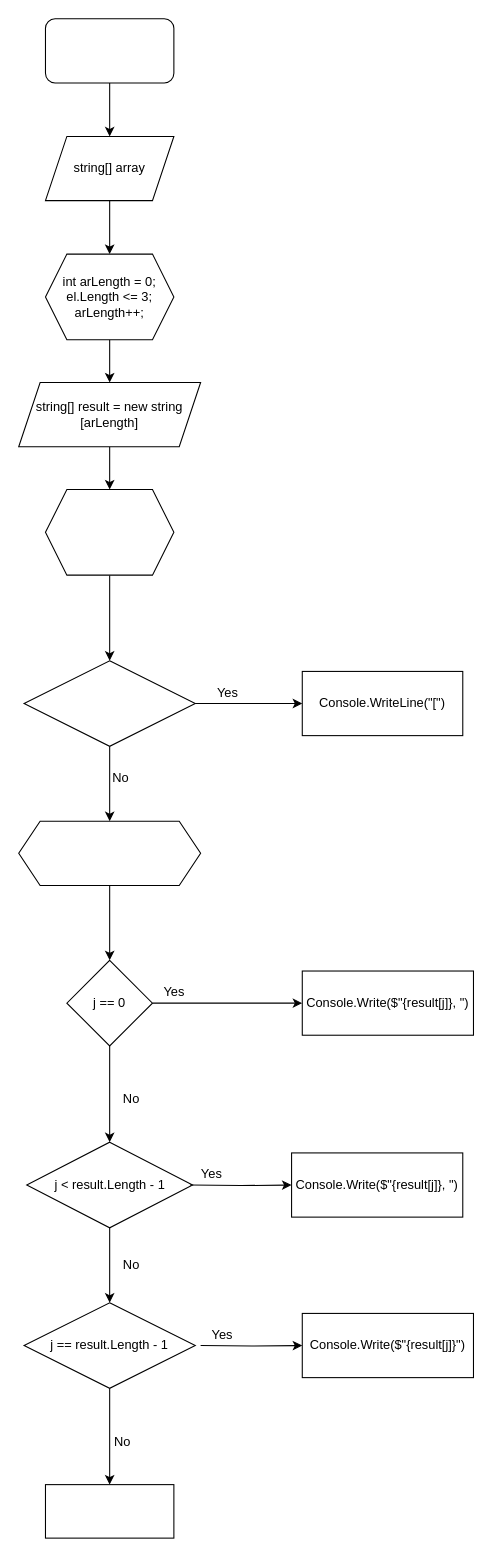
Some shapes in this 492 by 1557 pixel diagram are drawn without their labels. Each missing label, with the box of its shape:
Console.Write("]"): (44, 1484, 174, 1538)
int i = 0; el.Length <= 3; i++;: (44, 488, 174, 575)
int j = 0; j <= result.Length; j++: (18, 820, 201, 885)
result.Length < 1: (23, 660, 195, 746)
ThreeSymbolsArray: (44, 18, 174, 83)
